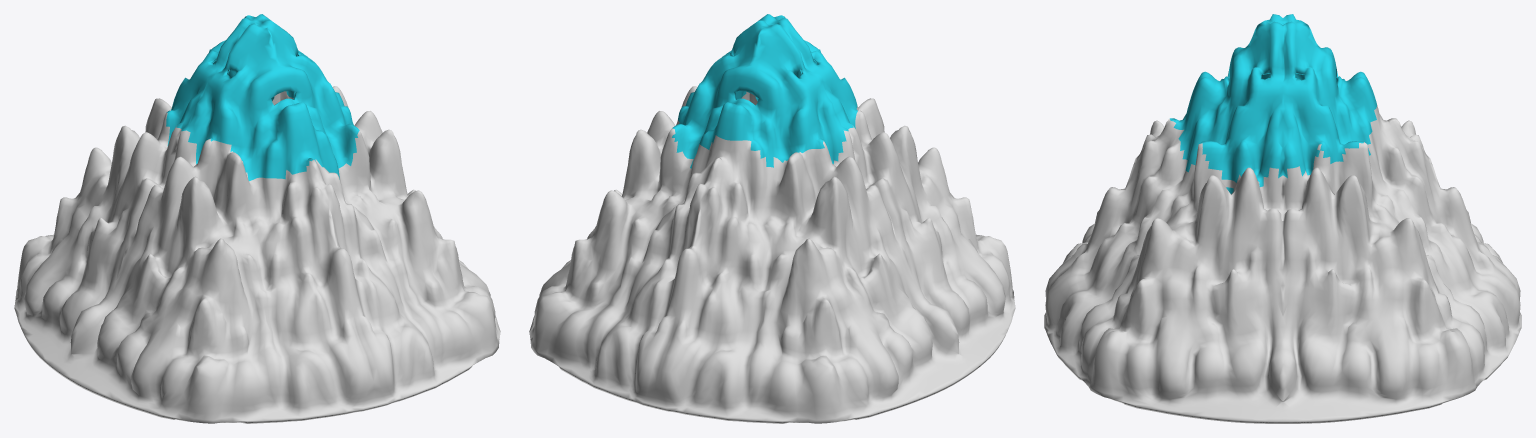
Rendered from Mount(Snow).fbx.
The picture shows the model from 3 angles, left to right: view 1: azimuth 30°, elevation 25°; view 2: azimuth 150°, elevation 25°; view 3: azimuth 270°, elevation 25°; orthographic projection.
Visible parts, largest first — view 1: Mount(Snow); view 2: Mount(Snow); view 3: Mount(Snow).
Boxes of the visible parts, <box> form: Mount(Snow): <box>14,14,500,423</box>; Mount(Snow): <box>529,14,1015,423</box>; Mount(Snow): <box>1044,14,1521,423</box>.
Bounding box in the file's own units: 114 × 82.14 × 116.
